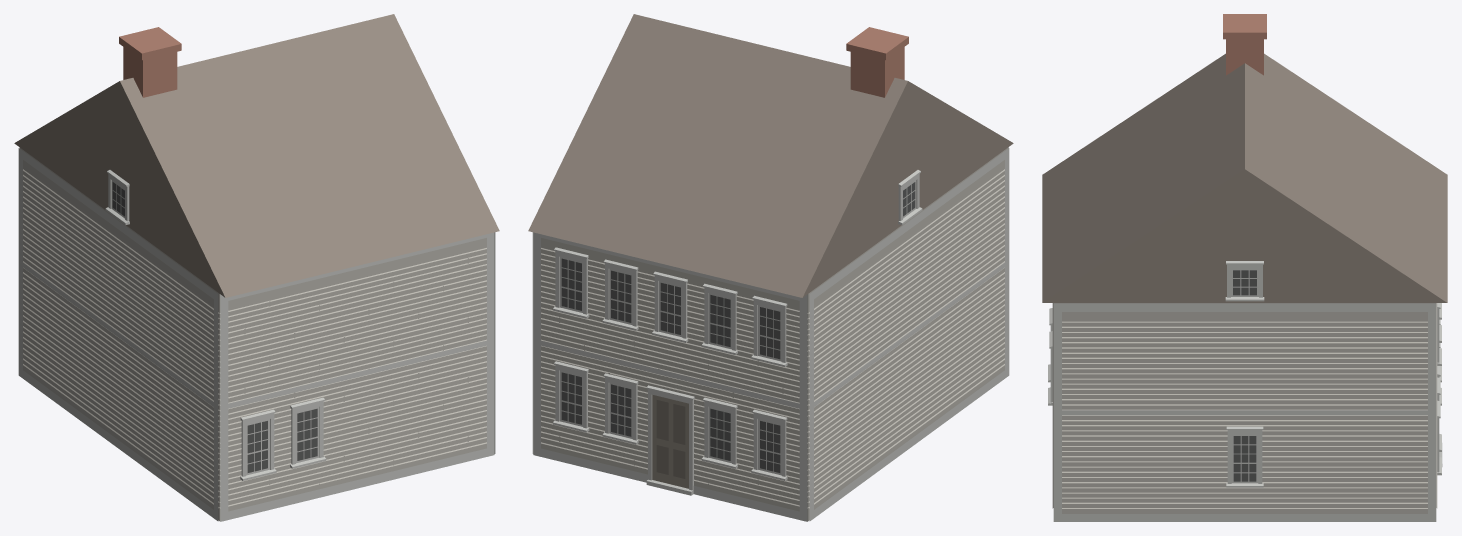
Rendered from recon_1835_south_d7_035__inferred_1835.glb.
3 renders of one model, left to right at view 1: azimuth 30°, elevation 25°; view 2: azimuth 150°, elevation 25°; view 3: azimuth 270°, elevation 25°, orthographic. The views are drawn at different scales.
Parts seen in each view (by area): view 1: recon_1835_south_d7_035__inferred_1835; view 2: recon_1835_south_d7_035__inferred_1835; view 3: recon_1835_south_d7_035__inferred_1835.
Part boxes in pixels (x1=…): recon_1835_south_d7_035__inferred_1835: x1=14, y1=14, x2=499, y2=521; recon_1835_south_d7_035__inferred_1835: x1=528, y1=14, x2=1013, y2=521; recon_1835_south_d7_035__inferred_1835: x1=1042, y1=14, x2=1447, y2=521.
Bounding box in the file's own units: 6.97 × 9.41 × 9.
